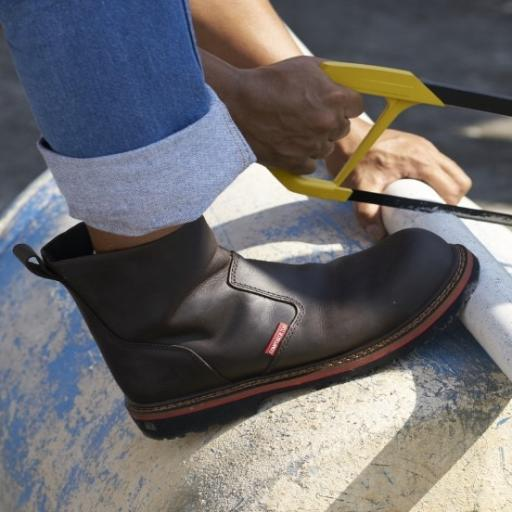safety_boots: (40, 233, 495, 440)
